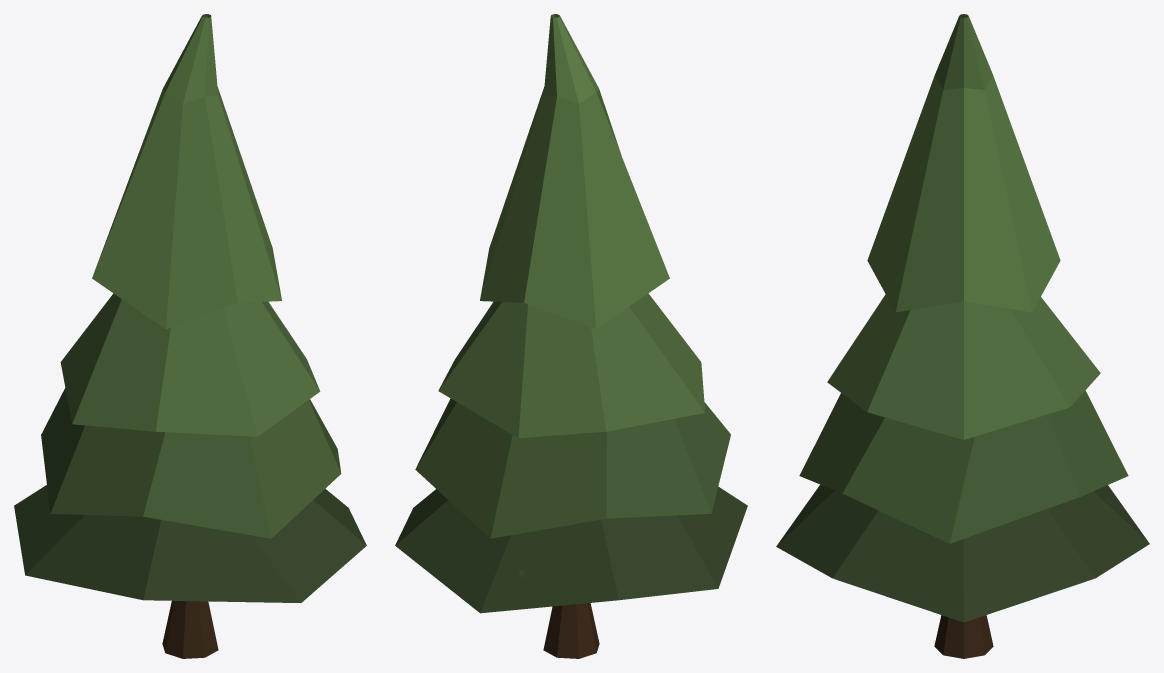
Rendered from Arbol.fbx.
3 renders of one model, left to right at view 1: azimuth 30°, elevation 25°; view 2: azimuth 150°, elevation 25°; view 3: azimuth 270°, elevation 25°, orthographic.
Visible parts, largest first — view 1: arbol.001; view 2: arbol.001; view 3: arbol.001.
Part boxes in pixels (x1,y1,x2,y2): arbol.001: [14, 14, 366, 658]; arbol.001: [395, 14, 747, 658]; arbol.001: [776, 14, 1149, 658].
Size of the model in its own units: 199 by 379 by 201.
